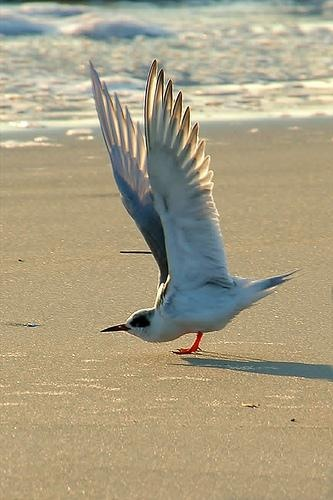bird: (83, 58, 289, 346)
